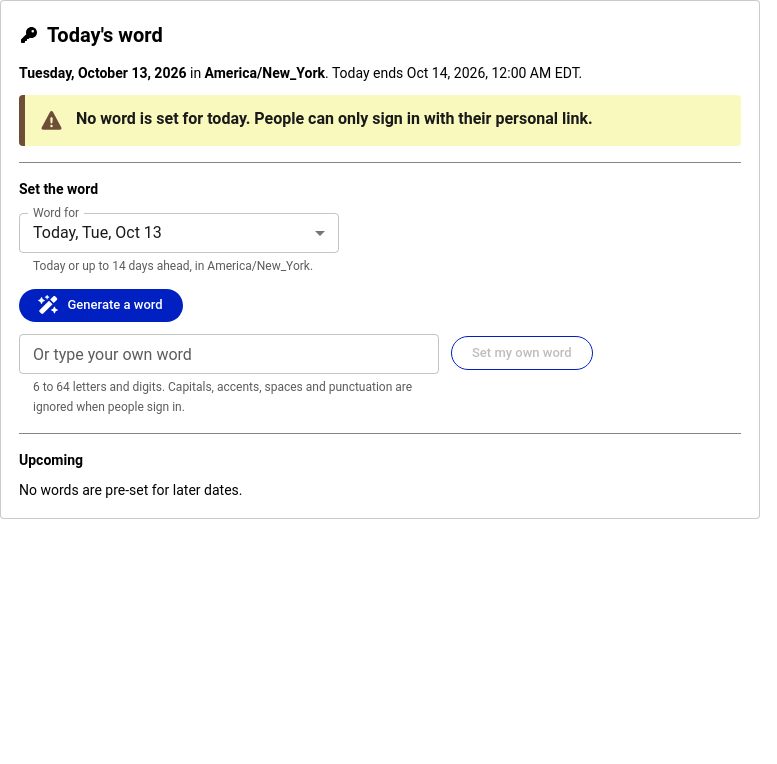
Scenario: generate a word › PUTs with no word but WITH the displayed date, then shows the word once
The width and height of the screenshot is (777, 764).
expect the element with test id "day-word-date-line" is shown: met, box [19,65,582,81]
Click the button "Generate a word": coordinates (101, 305) [19,289,183,322]
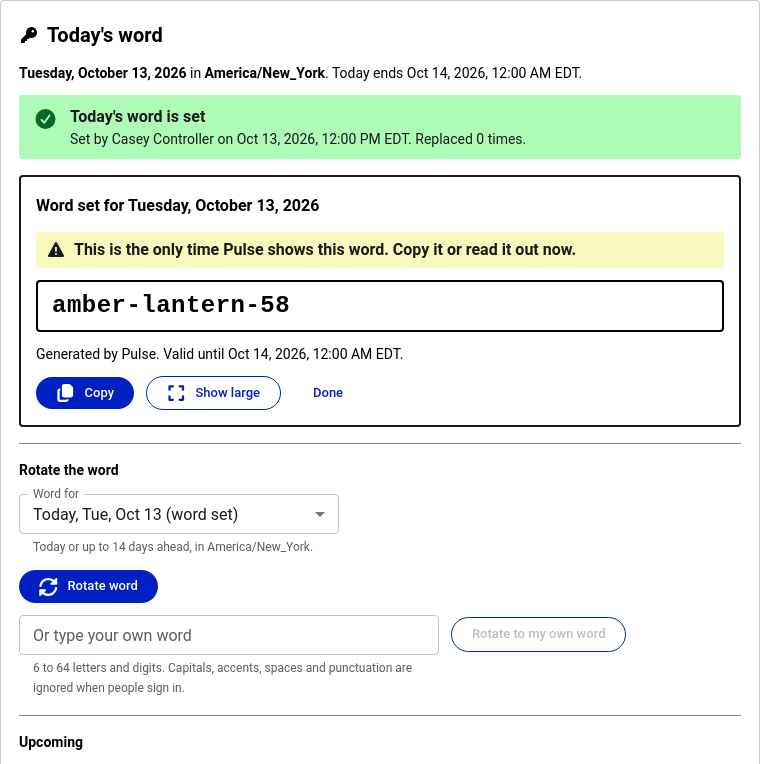
expect the text "This is the only time Pulse shows this word" is shown: met, box [74,240,384,259]
expect the text with test id "day-word-value" reads "amber-lantern-58": met, box [52,292,290,319]
expect the text "Generated by Pulse. Valid until Oct 14, 2026, 12:00 AM EDT." is shown: met, box [36,346,403,362]
